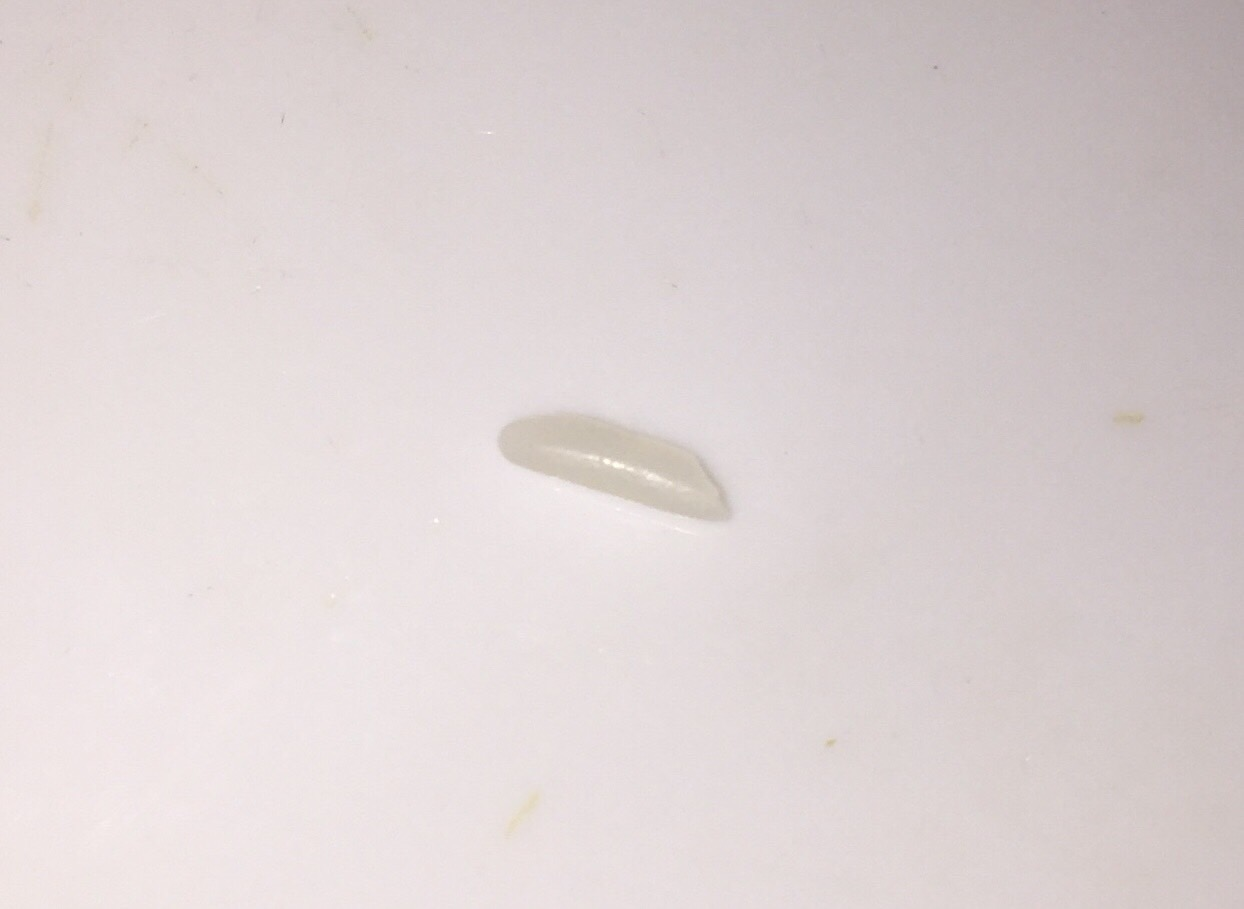Gao Ngoc Troi: (483, 389, 747, 548)
